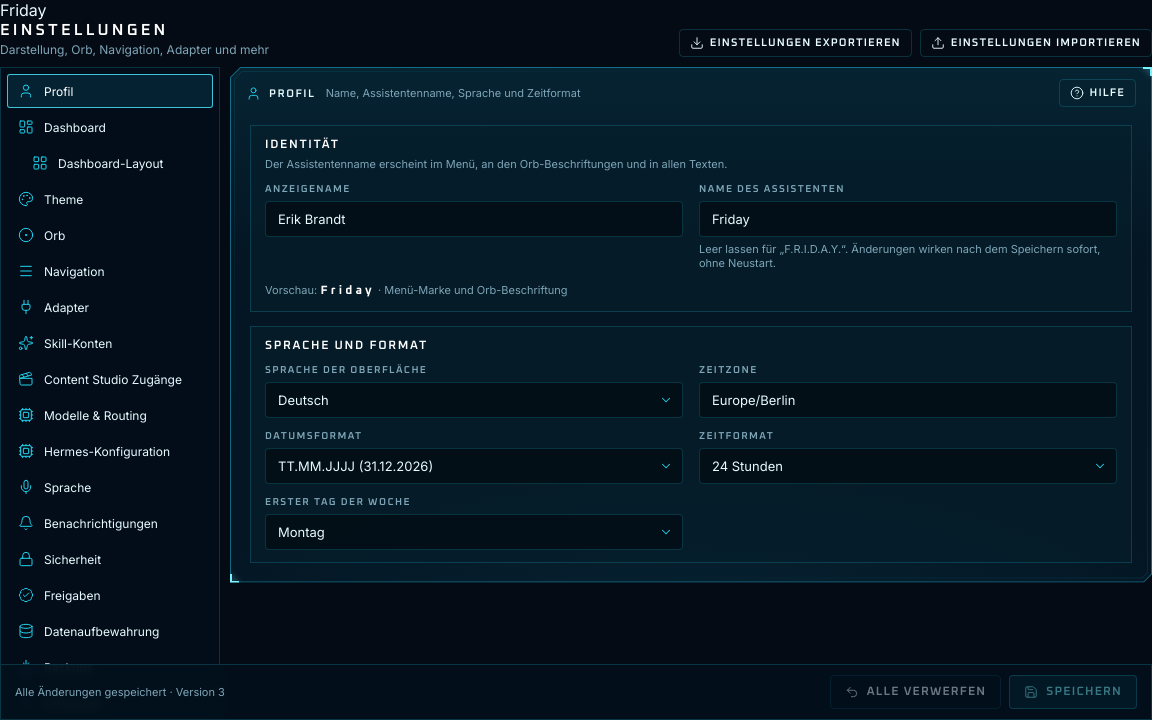
profile and assistant name › an empty name removes the optional field so clients fall back to the default
The width and height of the screenshot is (1152, 720).
Step 1. Clear the field labelled "Name des Assistenten" → (908, 218), box [699,200,1117,236]
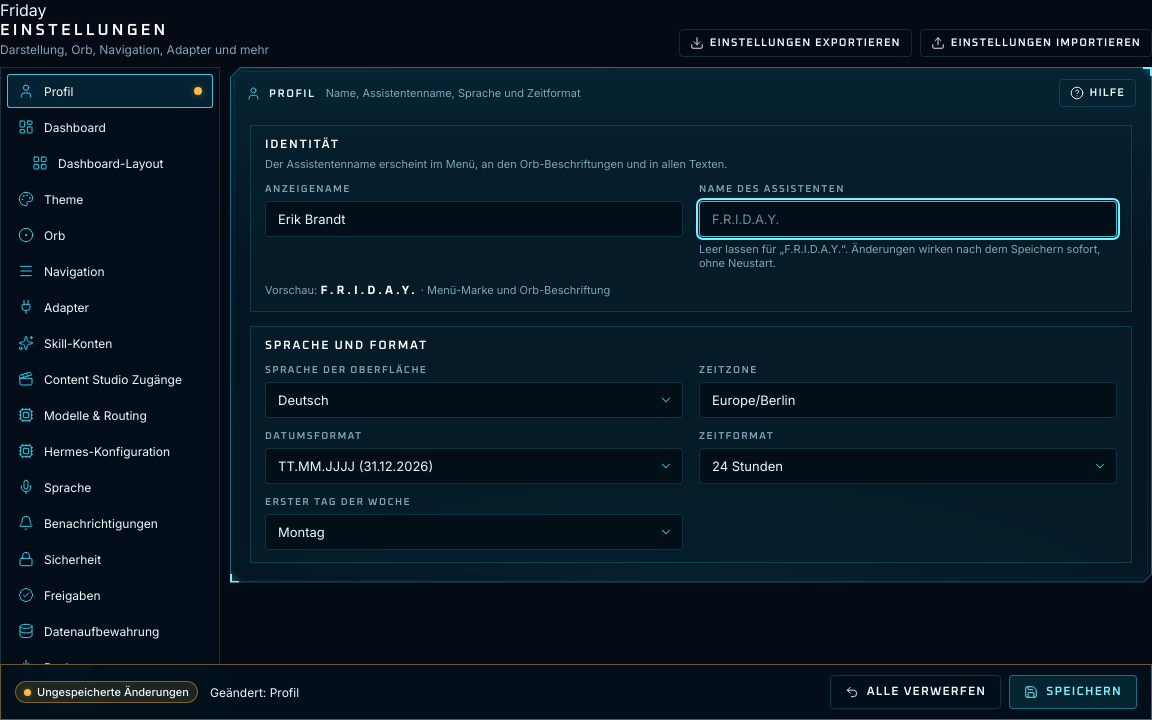
Step 2. Click the button "Speichern" → click(1073, 692), box [1009,675,1137,709]
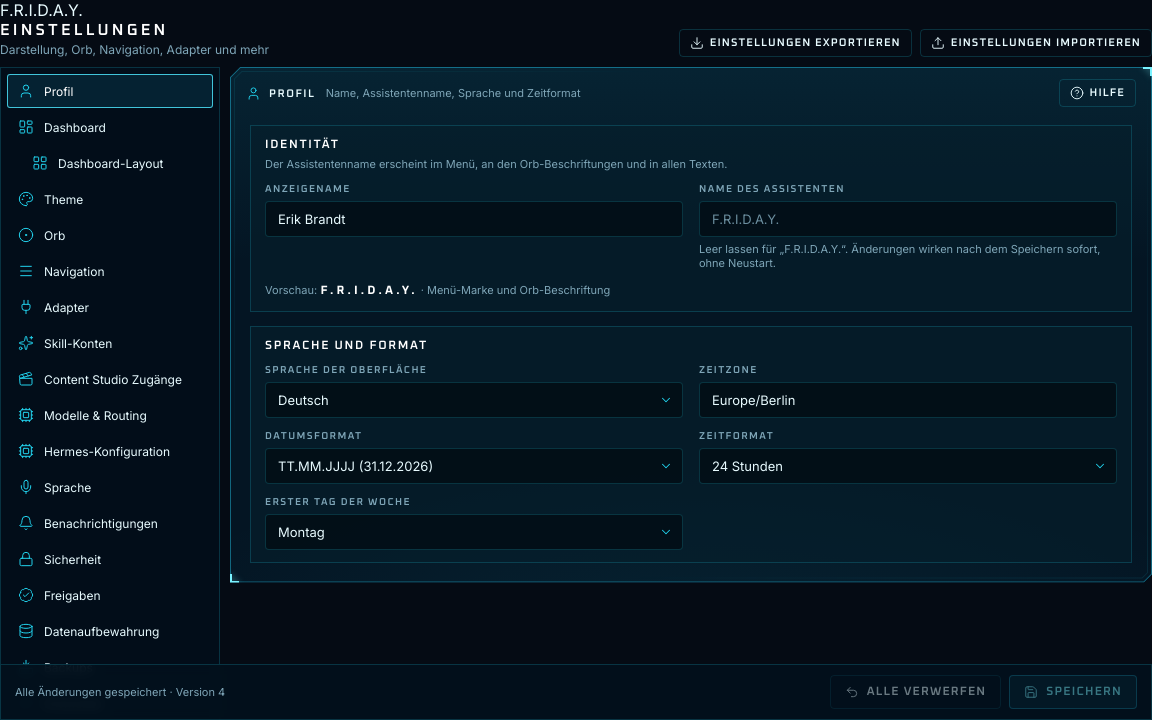
Expected: the text with test id "brand" reads "F.R.I.D.A.Y.", [0,0,83,20]
